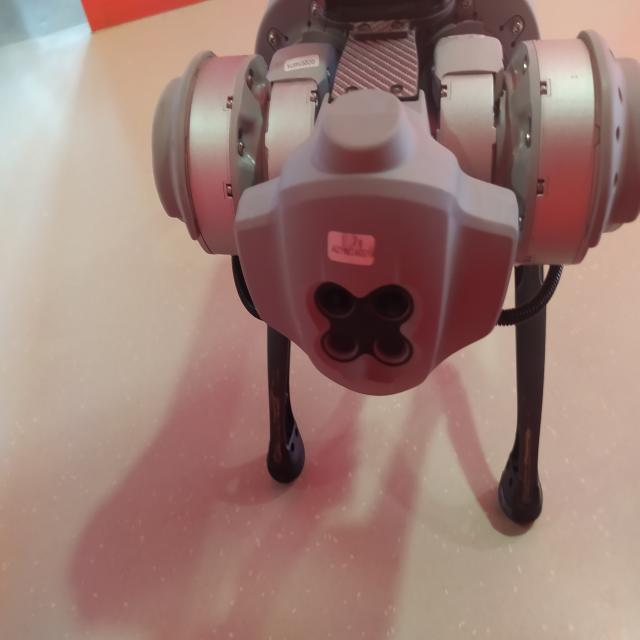unitree-go1-robot: (148, 5, 640, 542)
